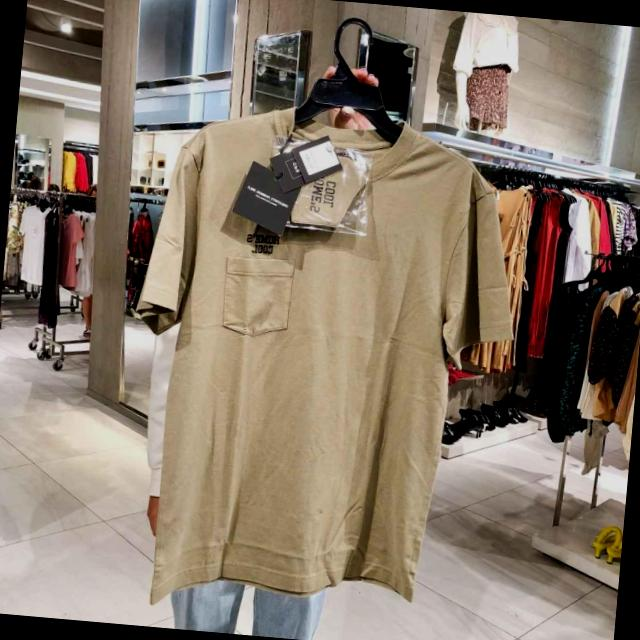Tshirt: (94, 100, 531, 634)
